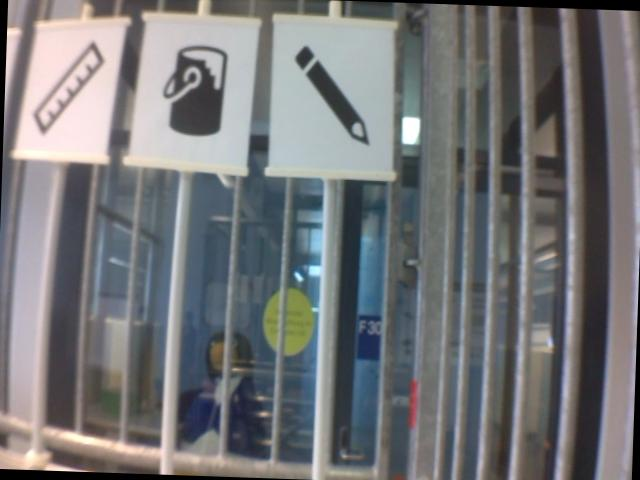bucket: (156, 42, 231, 141)
pencil: (282, 38, 380, 154)
ruler: (29, 37, 107, 140)
